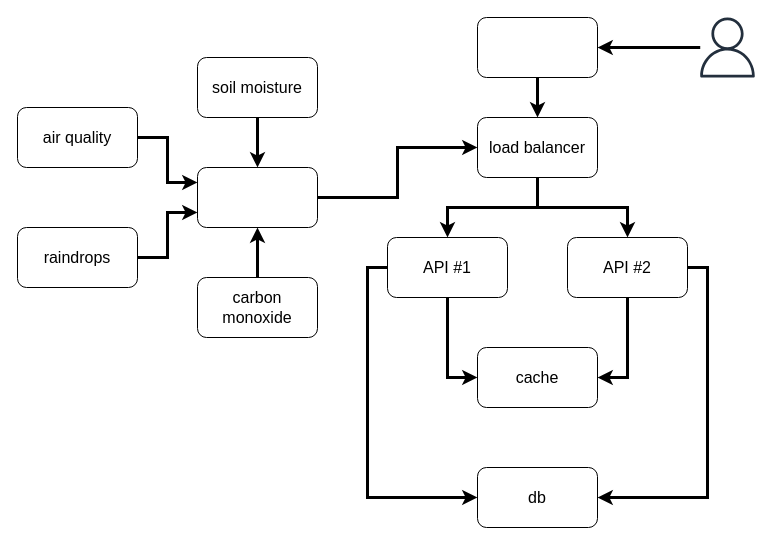
Image size: 775x545. Some labels were removed from this diagram. Here are the shapes that lost their labels. From the top down, the box of each, then its label:
(476, 16, 598, 78): app
(196, 166, 318, 228): arduino
